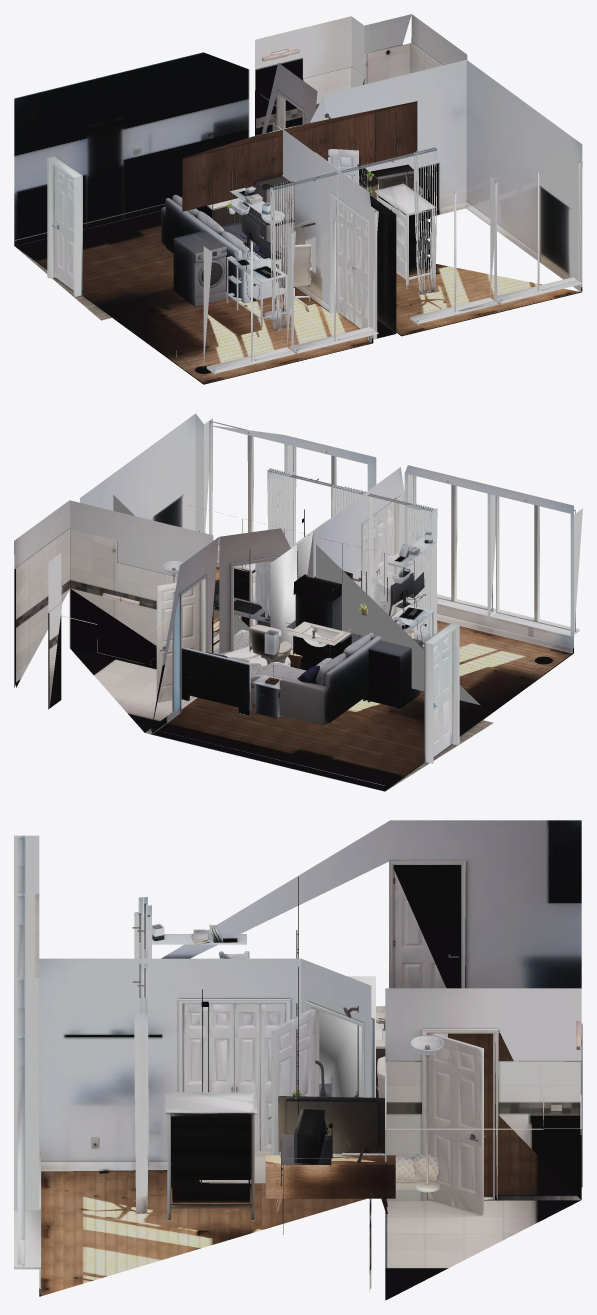
The picture shows the model from 3 angles, top to bottom: view 1: azimuth 30°, elevation 25°; view 2: azimuth 150°, elevation 25°; view 3: azimuth 270°, elevation 25°; orthographic projection. The views are drawn at different scales.
Parts seen in each view (by area): view 1: ApartmentBody_Baked, Kitchenette_Baked, Bedroom_Baked, LivingRoom_Baked, Bathroom_Baked; view 2: ApartmentBody_Baked, Bedroom_Baked, LivingRoom_Baked, Kitchenette_Baked, Windows, Window_Shower, Bathroom_Baked; view 3: ApartmentBody_Baked, Bedroom_Baked, LivingRoom_Baked, Window_Shower, Kitchenette_Baked, Bathroom_Baked.
Part boxes in pixels (box(x1,y1,x2,y2)): ApartmentBody_Baked: box(14, 14, 582, 384); Kitchenette_Baked: box(173, 101, 422, 306); Bedroom_Baked: box(210, 96, 437, 330); LivingRoom_Baked: box(161, 146, 436, 327); Bathroom_Baked: box(196, 113, 360, 228); ApartmentBody_Baked: box(14, 413, 582, 791); Bedroom_Baked: box(162, 468, 437, 722); LivingRoom_Baked: box(213, 469, 435, 725); Kitchenette_Baked: box(199, 519, 422, 709); Windows: box(113, 495, 480, 705); Window_Shower: box(270, 532, 312, 645); Bathroom_Baked: box(213, 509, 361, 664); ApartmentBody_Baked: box(14, 820, 582, 1300); Bedroom_Baked: box(132, 897, 447, 1220); LivingRoom_Baked: box(137, 897, 395, 1213); Window_Shower: box(234, 976, 375, 1136); Kitchenette_Baked: box(280, 877, 332, 1234); Bathroom_Baked: box(199, 989, 385, 1183).
Size of the model in its own units: 2.3e+07 by 8241345 by 1.99e+07.
9 materials, 6 textured.
